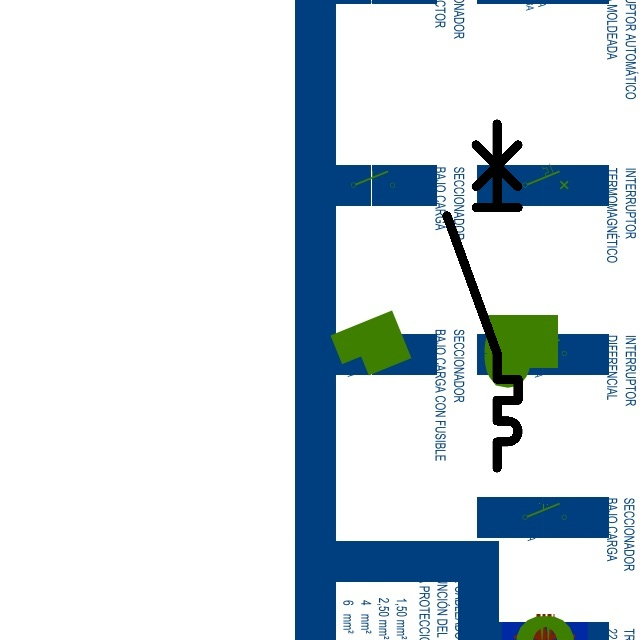interruptor_termomagnetico: (438, 115, 527, 477)
